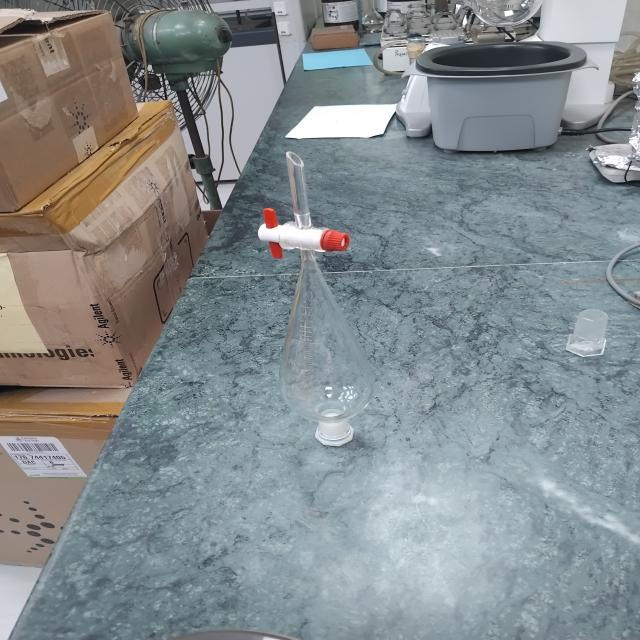Separating_Funnel: (238, 125, 413, 474)
